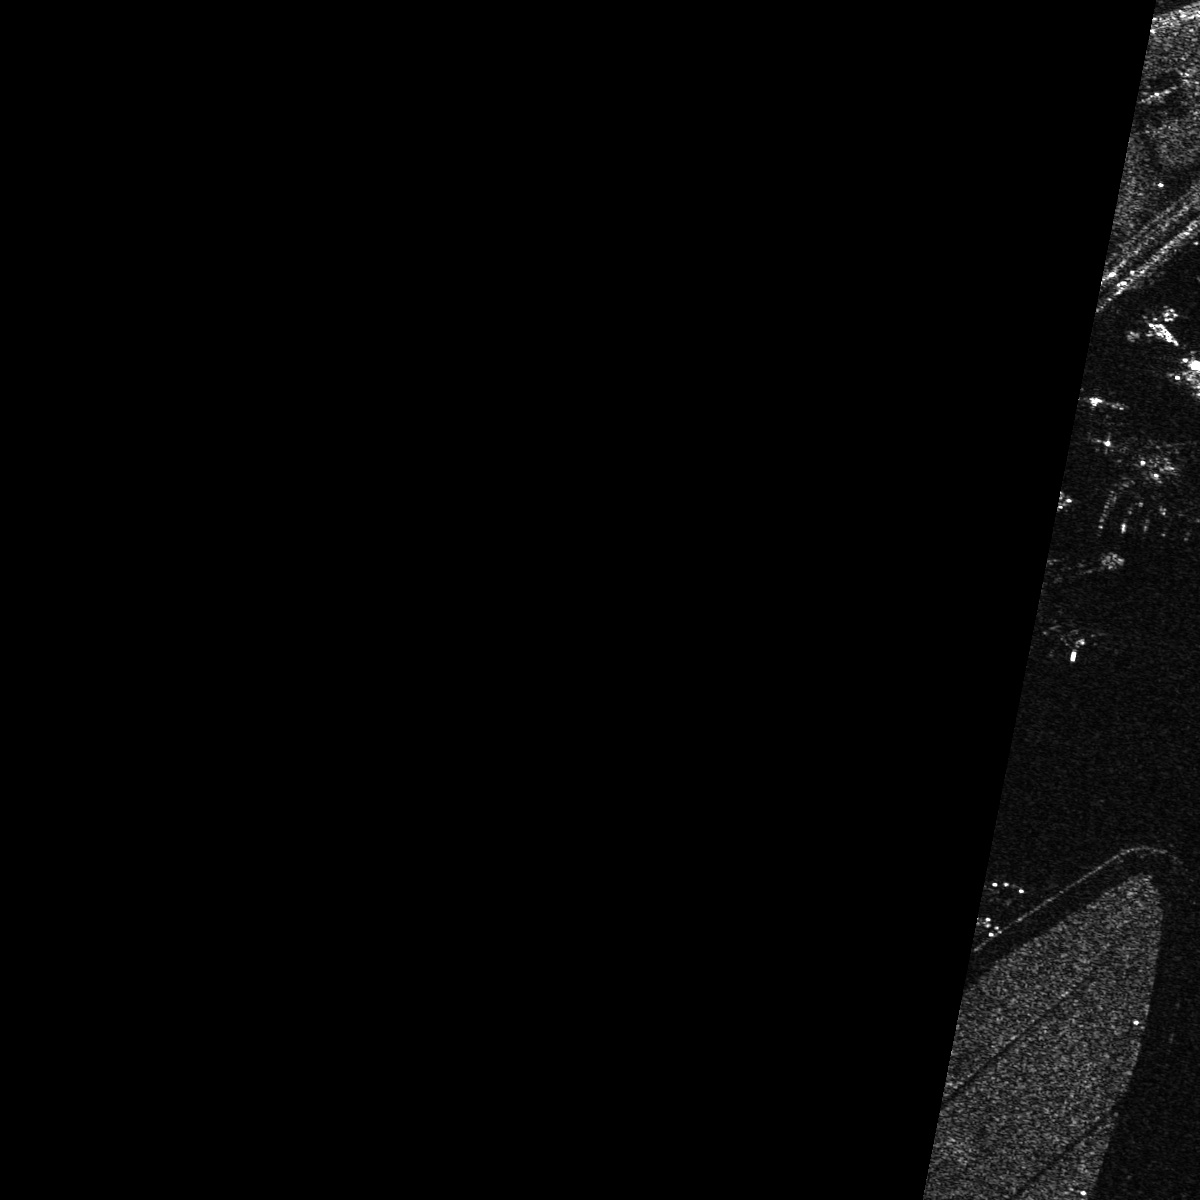Boeing787: (1095, 433, 1199, 547)
